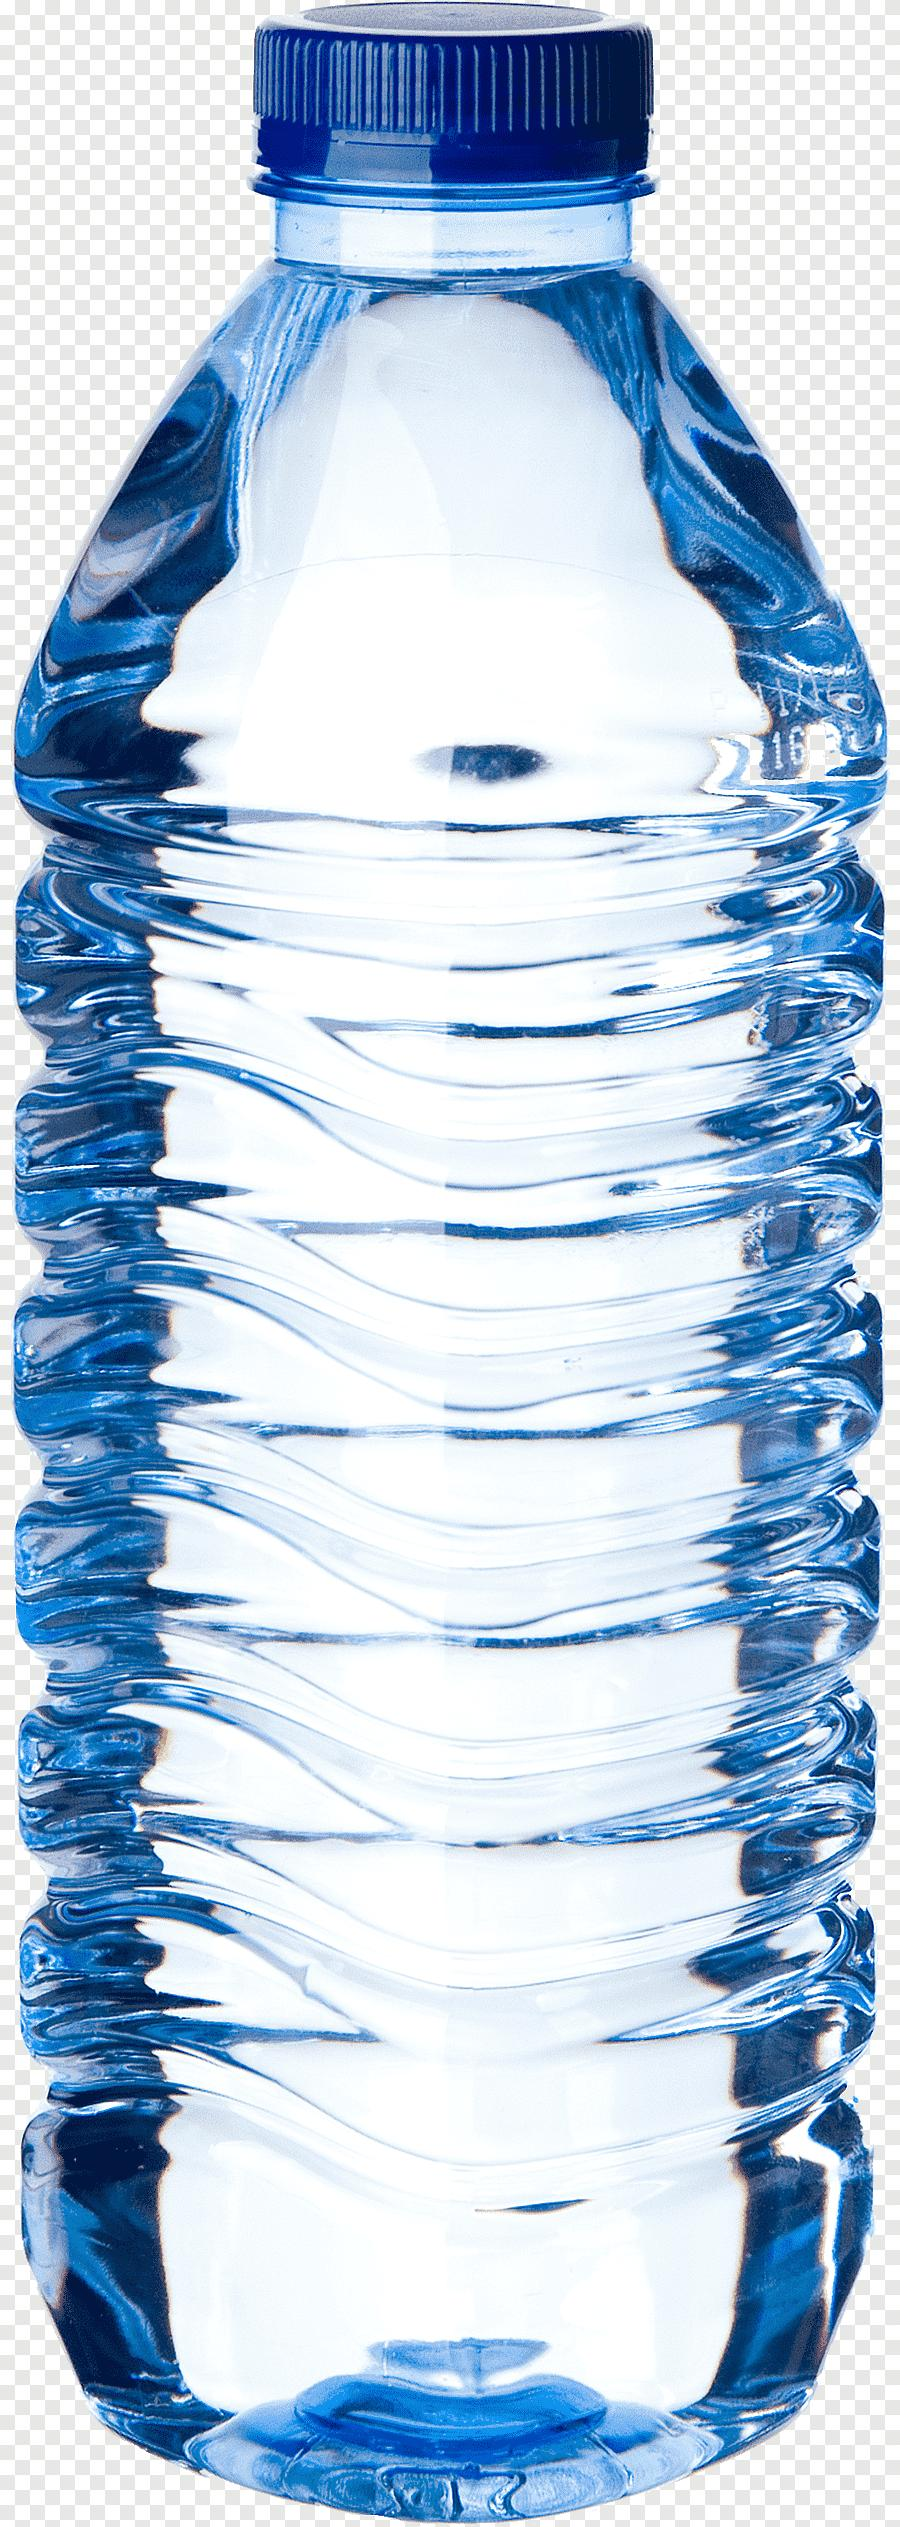plastic_bottle: (15, 5, 900, 2527)
